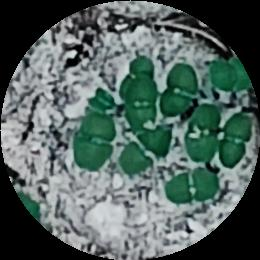Basil: (183, 107, 225, 162), (162, 66, 201, 122), (219, 113, 256, 169), (164, 166, 220, 203), (75, 117, 113, 169), (119, 132, 169, 170), (123, 76, 159, 126), (116, 55, 157, 98), (215, 62, 255, 92)
